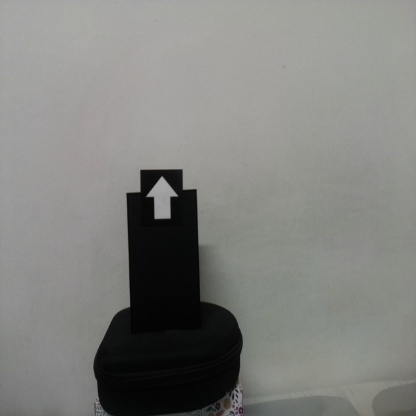id_1: (140, 170, 184, 231)
